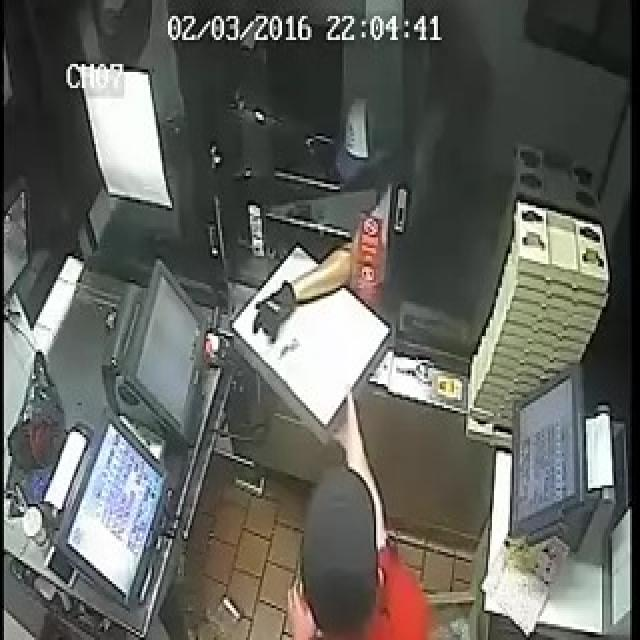thief: (324, 110, 412, 262)
